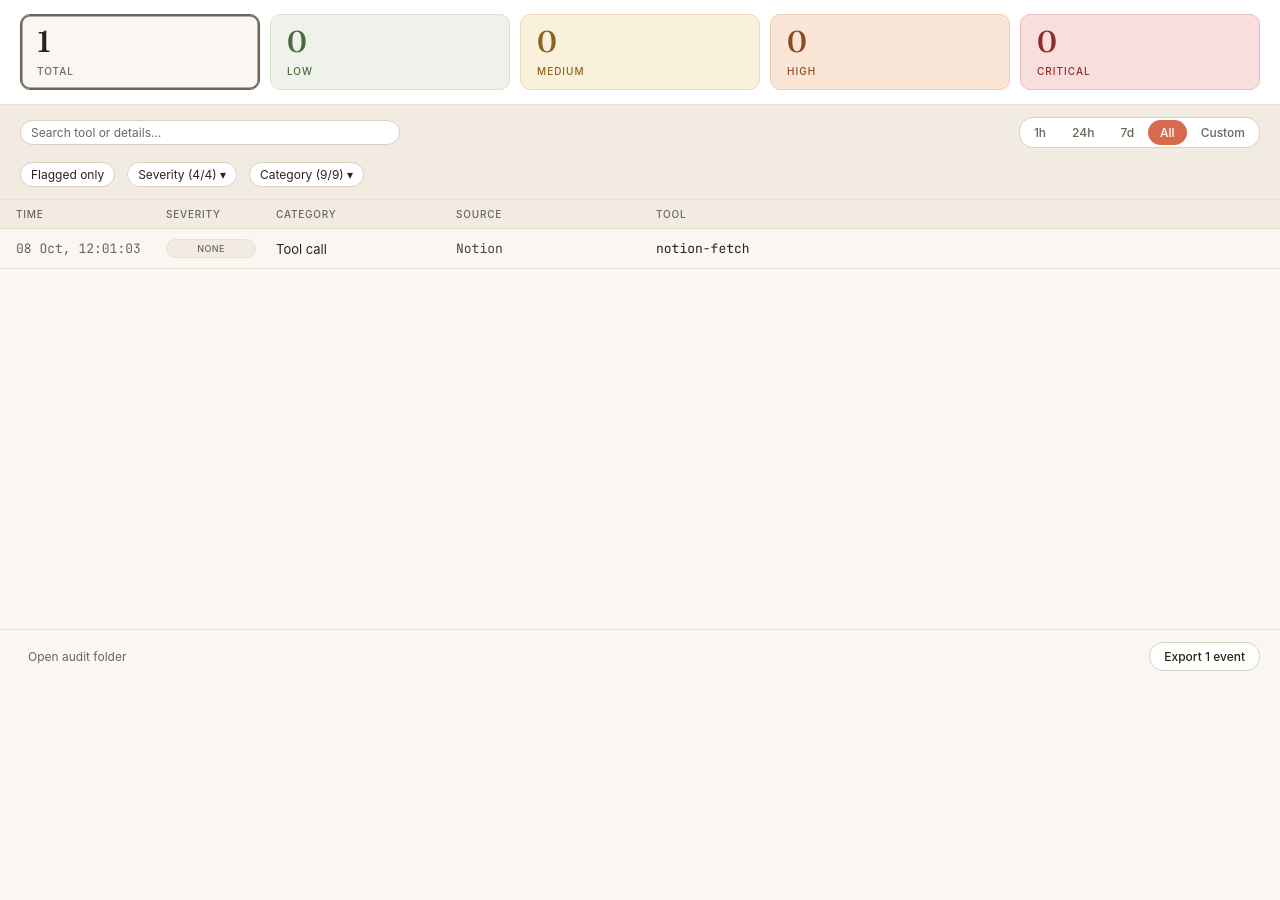
Test: Detections — filter parity: search + custom range (22/07) › inline Clear filters (producto 22/07): absent without filters, appears with one and restores everything
The width and height of the screenshot is (1280, 900).
Check: the text "notion-fetch" is shown, box 656,240 -> 750,257
Check: the button "Clear filters" is not shown
Click the button "24h" at (1083, 132), box 1060,120 -> 1106,145
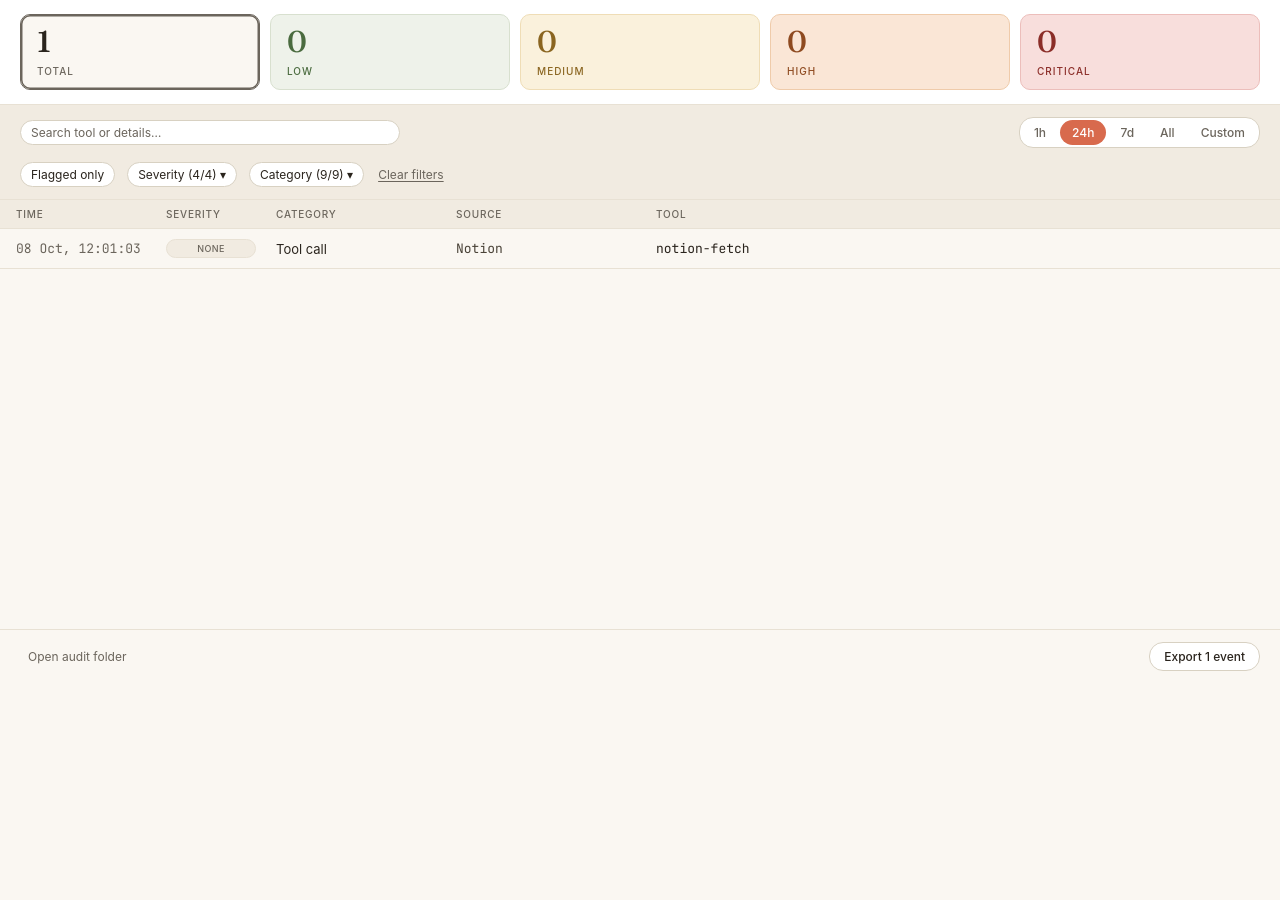
Click the button "Clear filters" at (411, 174), box 376,163 -> 446,186
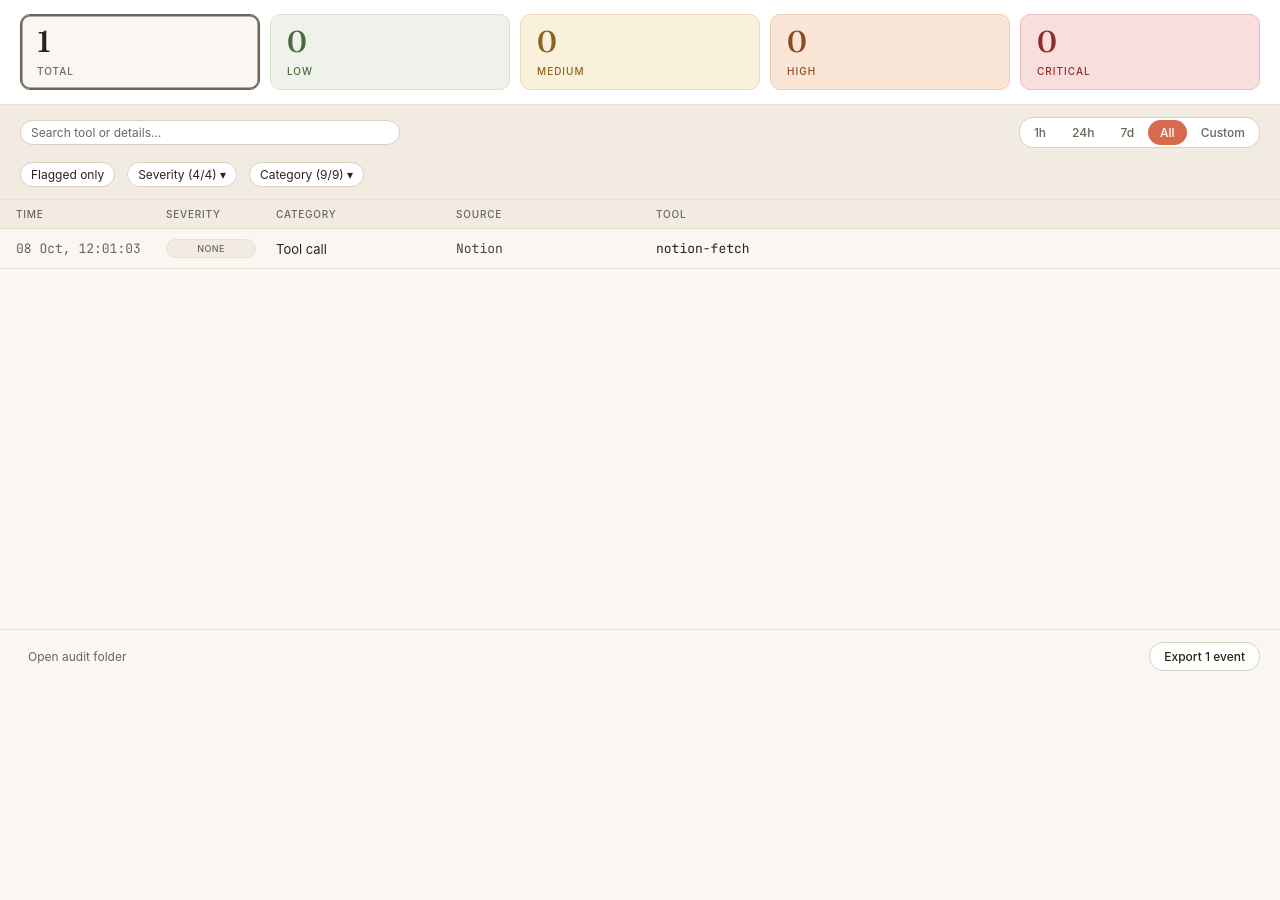
Check: the text "notion-fetch" is shown, box 656,240 -> 750,257
Check: the button "Clear filters" is gone
